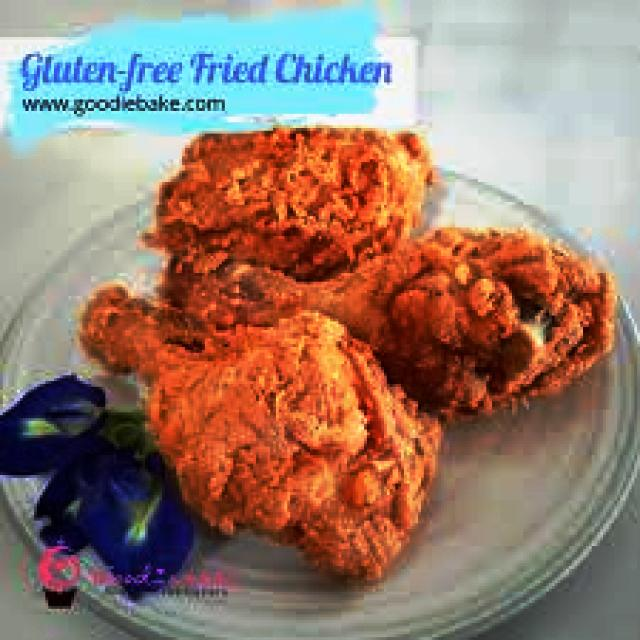fried_chicken: (80, 293, 432, 589), (185, 230, 617, 421), (162, 128, 427, 299)
